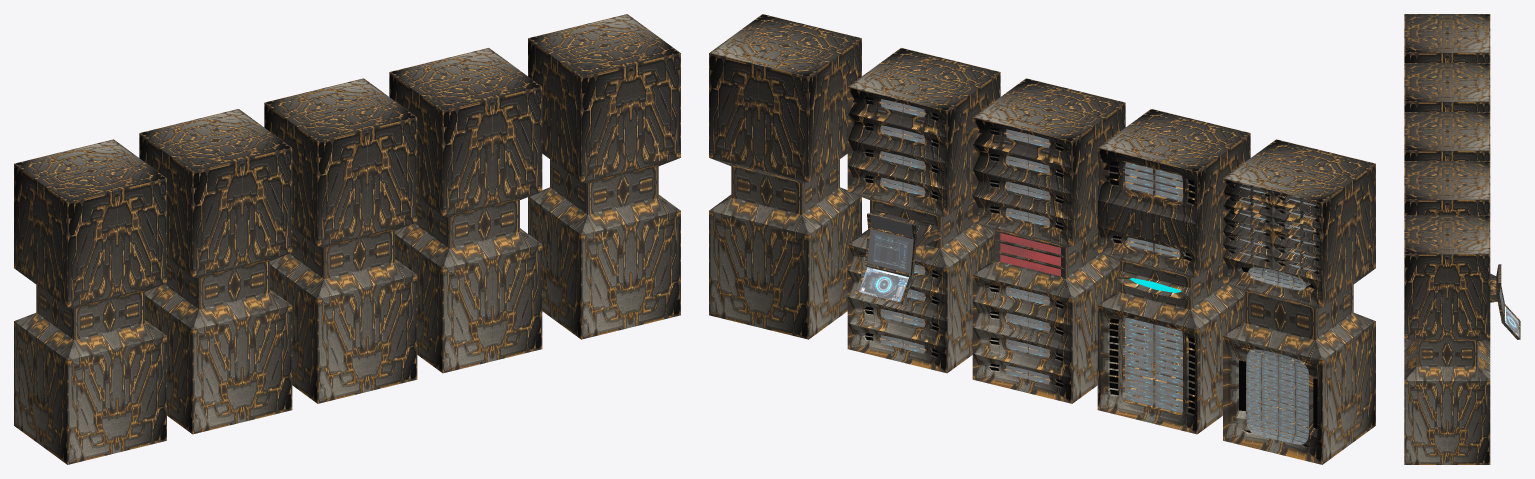
3 views of the same model, side by side, from view 1: azimuth 30°, elevation 25°; view 2: azimuth 150°, elevation 25°; view 3: azimuth 270°, elevation 25° (orthographic). The views are drawn at different scales.
Parts seen in each view (by area): view 1: MaterialFBXASC032FBXASC0352142150880 (×5); view 2: MaterialFBXASC032FBXASC0352142150880 (×5), MaterialFBXASC032FBXASC0352142146802 (×4), ORDNUNGSKRAFTFBXASC032Graviton (×4), MaterialFBXASC032FBXASC0352142147152, MaterialFBXASC032FBXASC03511298, MaterialFBXASC032FBXASC0352142148579; view 3: MaterialFBXASC032FBXASC0352142150880 (×5), MaterialFBXASC032FBXASC0352142148579.
Boxes of the visible parts, x1=… form: MaterialFBXASC032FBXASC0352142150880 (×5): x1=14, y1=14, x2=680, y2=464; MaterialFBXASC032FBXASC0352142150880 (×5): x1=709, y1=14, x2=1375, y2=464; MaterialFBXASC032FBXASC0352142146802 (×4): x1=880, y1=99, x2=1315, y2=444; ORDNUNGSKRAFTFBXASC032Graviton (×4): x1=865, y1=97, x2=1320, y2=446; MaterialFBXASC032FBXASC0352142147152: x1=867, y1=229, x2=913, y2=273; MaterialFBXASC032FBXASC03511298: x1=1000, y1=233, x2=1060, y2=276; MaterialFBXASC032FBXASC0352142148579: x1=859, y1=267, x2=908, y2=302; MaterialFBXASC032FBXASC0352142150880 (×5): x1=1404, y1=14, x2=1520, y2=464; MaterialFBXASC032FBXASC0352142148579: x1=1505, y1=306, x2=1518, y2=336.
Size of the model in its own units: 60.65 by 24.78 by 12.39.
